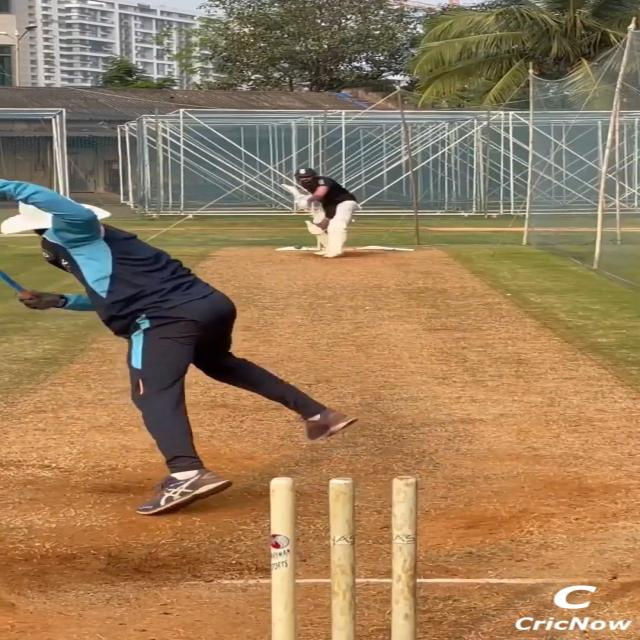ball: (294, 244, 302, 250)
stump: (267, 476, 423, 640)
